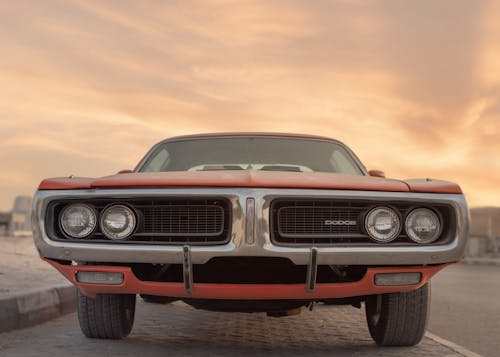other: (30, 129, 469, 341)
